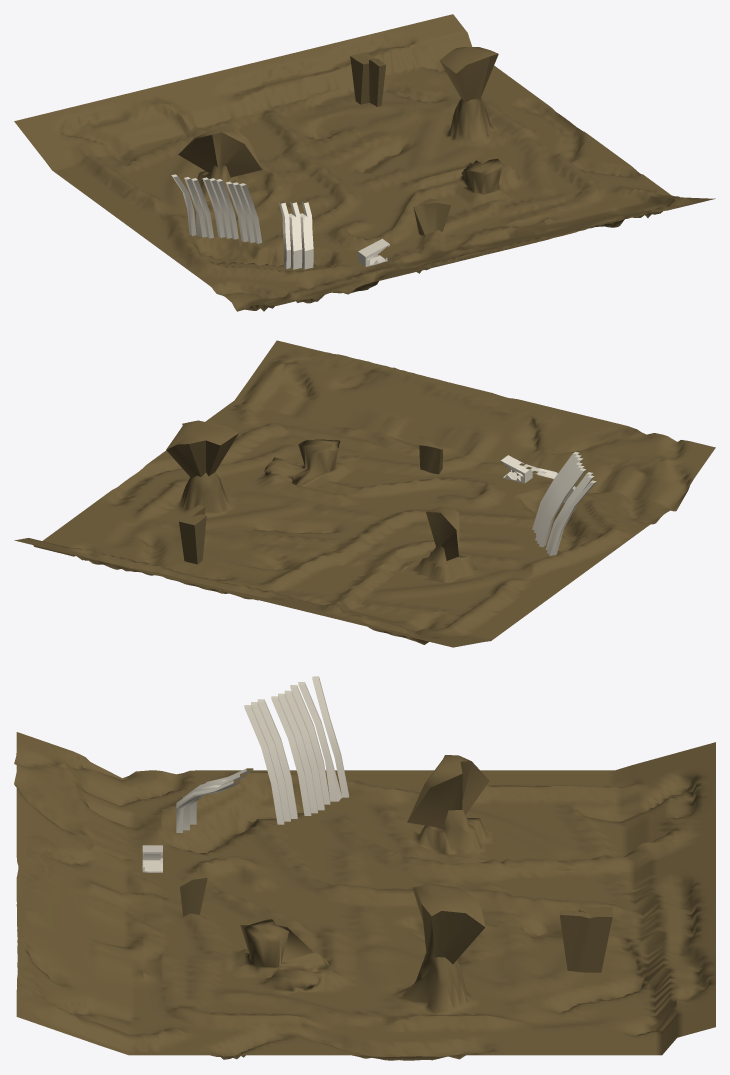
Rendered from gameTerrain.obj.
3 renders of one model, top to bottom at view 1: azimuth 30°, elevation 25°; view 2: azimuth 150°, elevation 25°; view 3: azimuth 270°, elevation 25°, orthographic. The views are drawn at different scales.
Parts seen in each view (by area): view 1: pPlane1; view 2: pPlane1; view 3: pPlane1.
Part boxes in pixels (x1,y1,x2,y2): pPlane1: [14, 14, 715, 311]; pPlane1: [14, 340, 715, 647]; pPlane1: [14, 676, 715, 1060].
Bounding box in the file's own units: 1804 × 386 × 1878.
